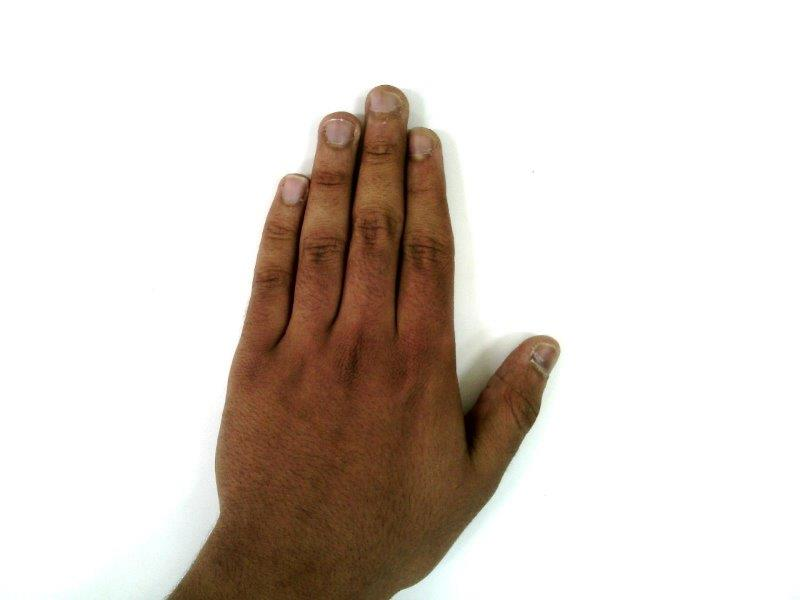hand: (215, 84, 560, 551)
